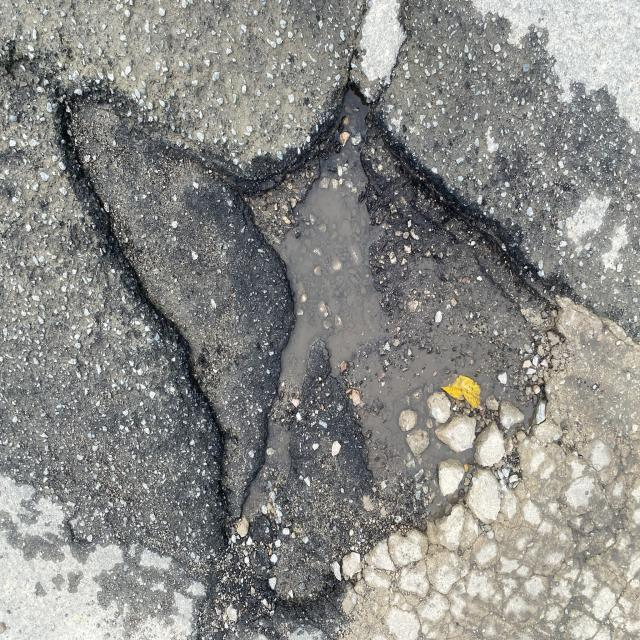pothole: (35, 28, 640, 640)
